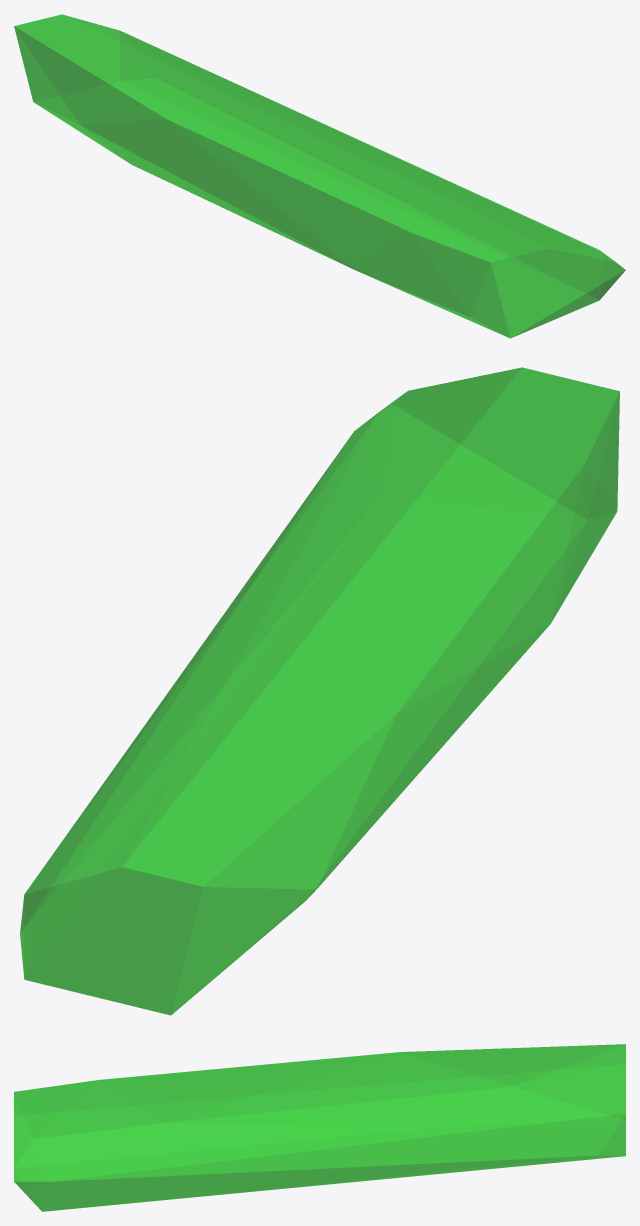
3 views of the same model, one above another, from view 1: azimuth 30°, elevation 25°; view 2: azimuth 150°, elevation 25°; view 3: azimuth 270°, elevation 25° (orthographic). The views are drawn at different scales.
Parts seen in each view (by area): view 1: Shape_IndexedFaceSet.034_Shape_IndexedFaceSet.13106; view 2: Shape_IndexedFaceSet.034_Shape_IndexedFaceSet.13106; view 3: Shape_IndexedFaceSet.034_Shape_IndexedFaceSet.13106.
Boxes of the visible parts, <box> form: Shape_IndexedFaceSet.034_Shape_IndexedFaceSet.13106: <box>14,14,625,338</box>; Shape_IndexedFaceSet.034_Shape_IndexedFaceSet.13106: <box>20,367,619,1015</box>; Shape_IndexedFaceSet.034_Shape_IndexedFaceSet.13106: <box>14,1044,625,1211</box>.
Size of the model in its own units: 0.059 by 0.0181 by 0.1474.
